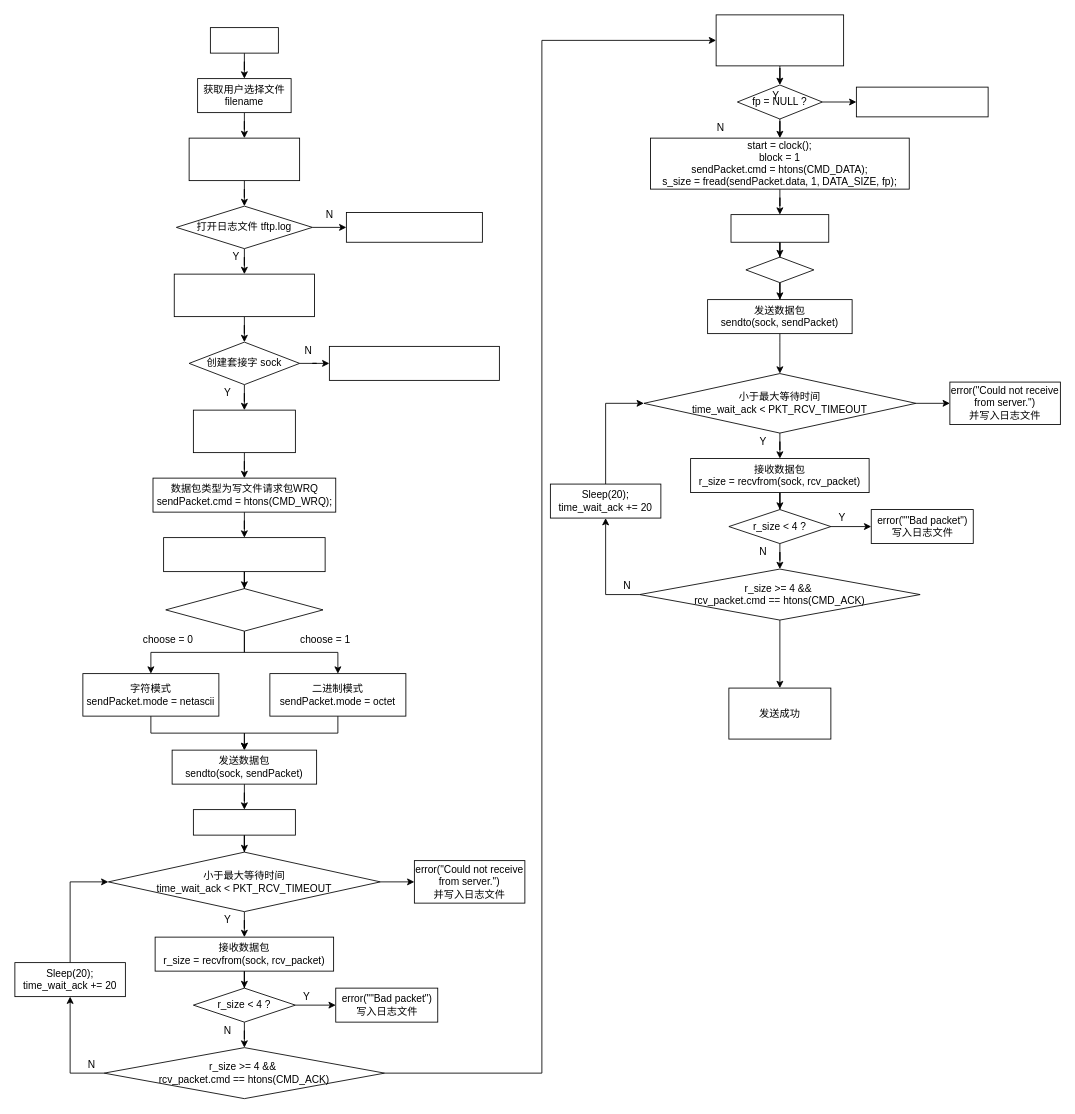
Image size: 1075x1114. Some labels were removed from this diagram. Here are the shapes that lost their labels. From the top down, the box of each, then its label:
(210, 27, 278, 53): 上传文件
(715, 14, 844, 66): 收到ACK，开始传输文件 打开文件 fp = fopen(filename);
(856, 86, 988, 117): error("File not exists!") 并写入日志文件
(188, 137, 300, 181): 获取用户输入服务器IP: serverAddr以及本地IP: clientAddr
(346, 212, 482, 242): error("open log file failed")
(730, 214, 829, 242): rxmt = 0 // 重传次数
(745, 256, 814, 283): rxmt < 3
(173, 273, 314, 317): 服务器端口选择69 本地端口选择任意空闲端口
(329, 346, 499, 380): error("Client create socket error!") 写入日志文件
(193, 409, 295, 453): 使用bind将套接字sock和clientAddr绑定
(163, 537, 325, 572): 数据包文件名 sendPacket.filename = filename
(165, 588, 323, 631): 读取选择的传输模式choose
(193, 809, 295, 835): time_wait_ack = 0
